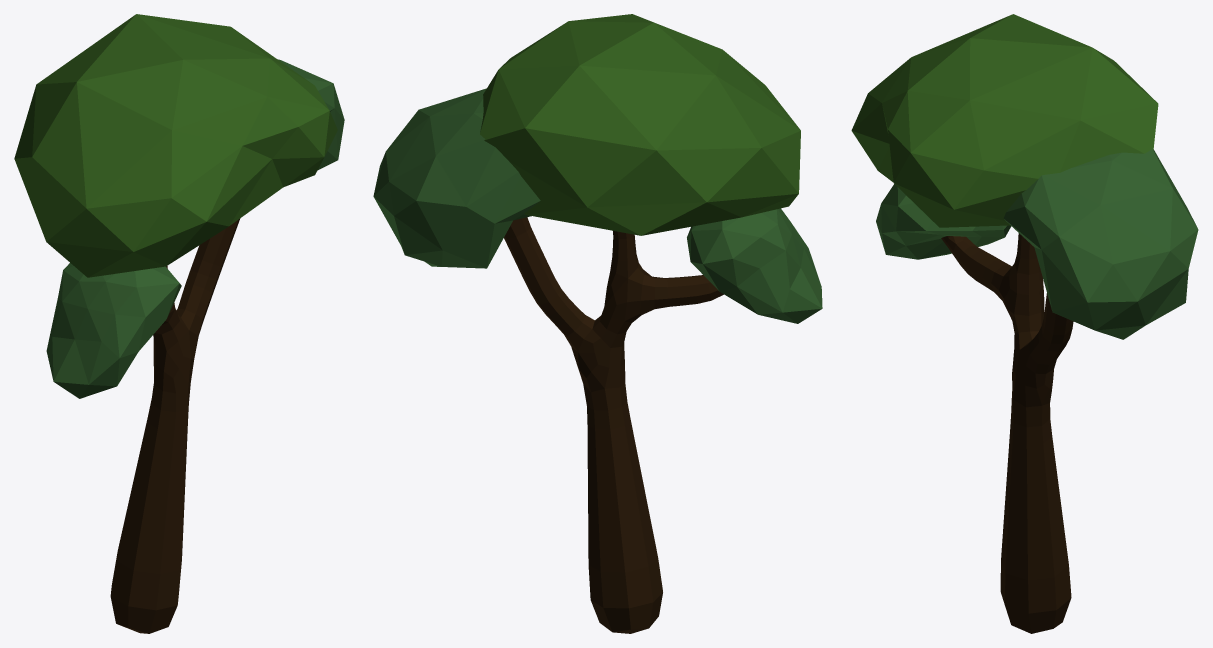
The model's file is jungle_tree1.1.fbx.
3 views of the same model, side by side, from view 1: azimuth 30°, elevation 25°; view 2: azimuth 150°, elevation 25°; view 3: azimuth 270°, elevation 25° (orthographic).
Visible parts, largest first — view 1: Plane; view 2: Plane; view 3: Plane.
Boxes of the visible parts, x1=… form: Plane: x1=14, y1=14, x2=344, y2=633; Plane: x1=373, y1=14, x2=822, y2=633; Plane: x1=851, y1=14, x2=1198, y2=633.
Bounding box in the file's own units: 654 × 1003 × 529.
